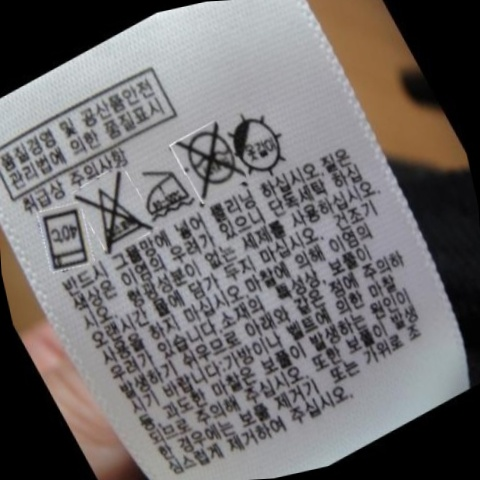40C: (33, 203, 95, 277)
DN_dry_clean: (179, 115, 239, 198)
iron_low: (136, 160, 193, 223)
line_dry_in_shade: (228, 104, 292, 181)
non_chlorine_bleach: (77, 165, 150, 255)
